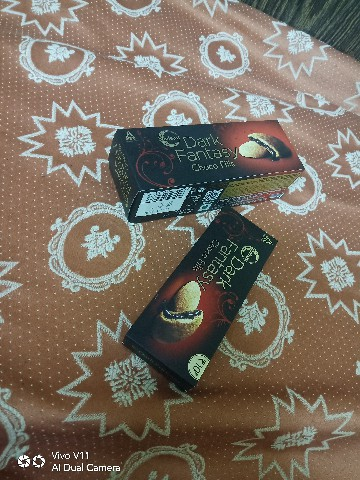darkfantasy big: (97, 104, 308, 216)
darkfantasy small: (118, 206, 280, 393)
